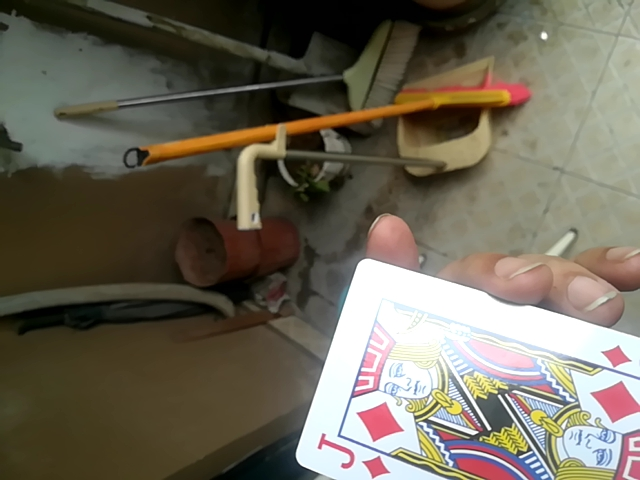fk j: (289, 260, 639, 480)
